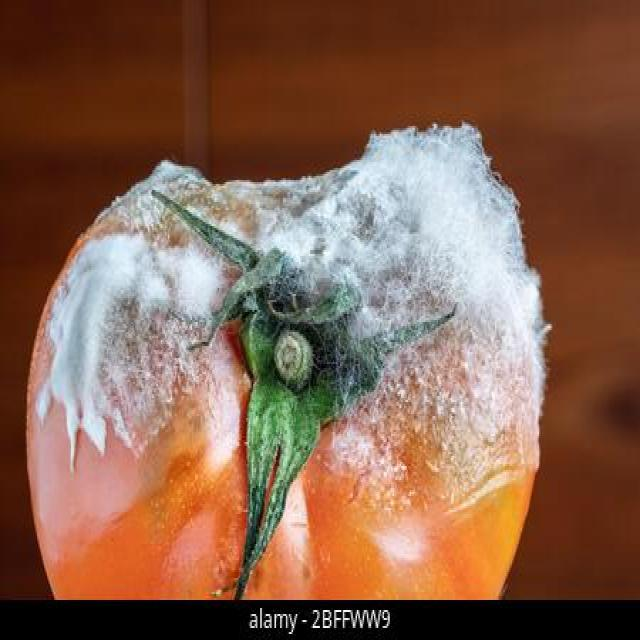Rotten: (27, 123, 550, 600)
